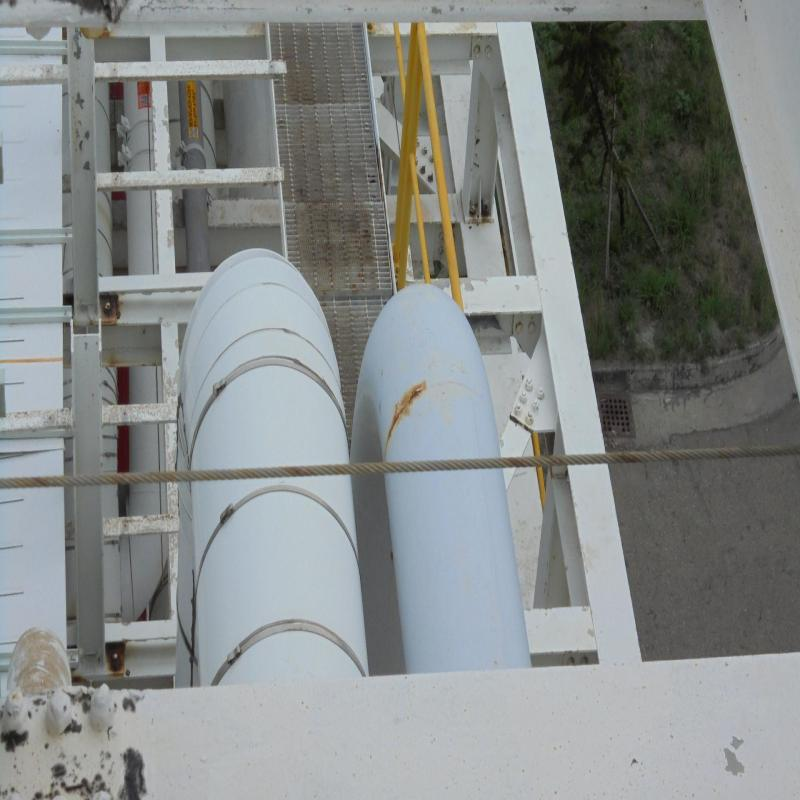corrosion: (399, 407, 418, 410)
